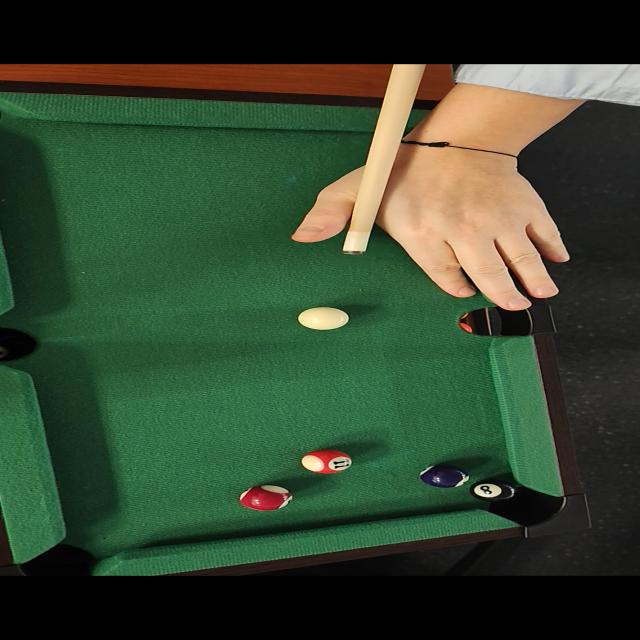cue ball: (289, 306, 348, 334)
other: (228, 482, 298, 512), (292, 446, 362, 474), (413, 461, 477, 490), (465, 477, 523, 502)
